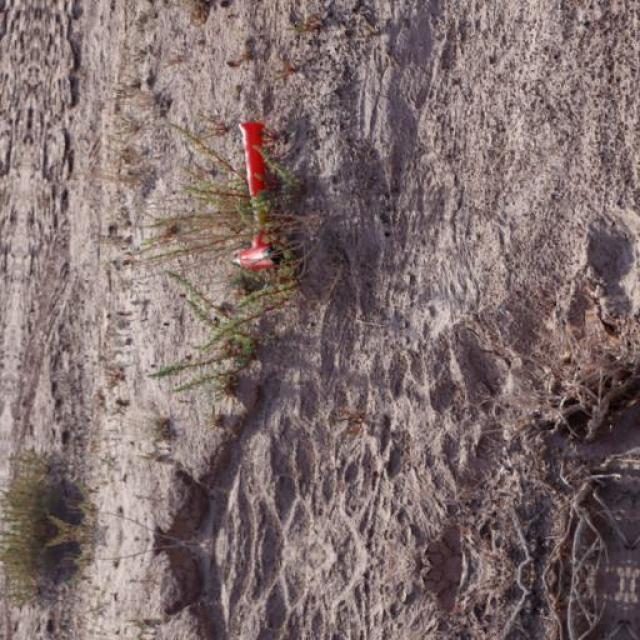mallet: (230, 119, 286, 271)
